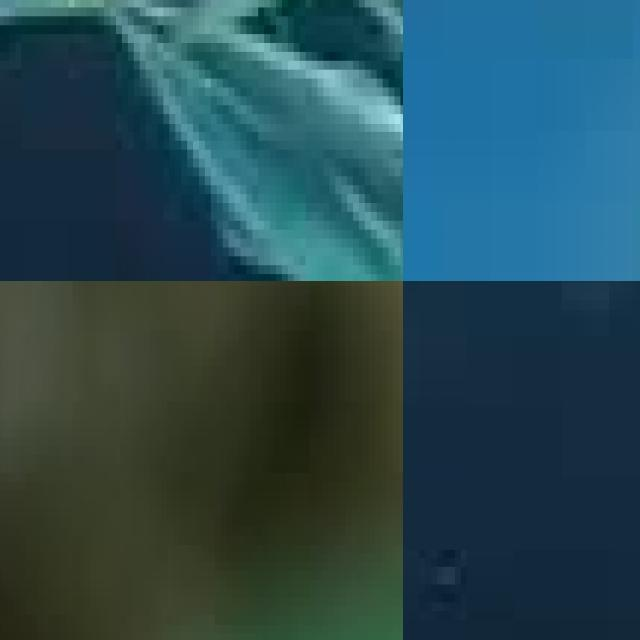fish: (0, 0, 403, 281), (403, 0, 640, 281)
